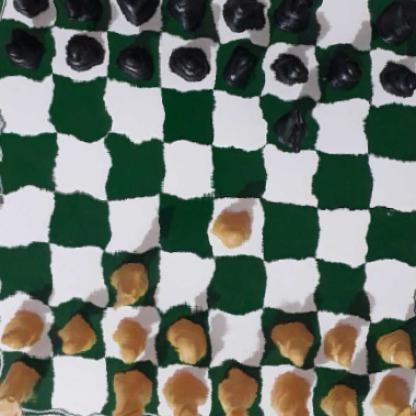black-bishop: (273, 0, 322, 40), (110, 0, 162, 25)
black-king: (218, 0, 272, 36)
black-knight: (266, 98, 311, 149), (59, 0, 104, 22)
black-pawn: (115, 33, 153, 81), (169, 37, 209, 82), (379, 54, 416, 102), (2, 25, 45, 66), (273, 44, 314, 87), (220, 47, 262, 87), (322, 50, 362, 91), (60, 30, 101, 70)
black-queen: (166, 0, 210, 27)
black-rook: (378, 0, 416, 45), (0, 0, 51, 18)
white-bishop: (108, 365, 154, 416), (269, 371, 312, 416)
white-king: (210, 369, 256, 416)
white-knight: (104, 252, 149, 311), (323, 379, 366, 416)
white-pawn: (318, 317, 365, 370), (270, 315, 312, 366), (165, 317, 208, 365), (0, 308, 44, 354), (108, 314, 151, 359), (213, 203, 253, 250), (58, 312, 100, 354), (379, 325, 416, 372)
white-queen: (160, 371, 206, 416)
white-rook: (0, 357, 39, 416), (371, 366, 416, 416)
